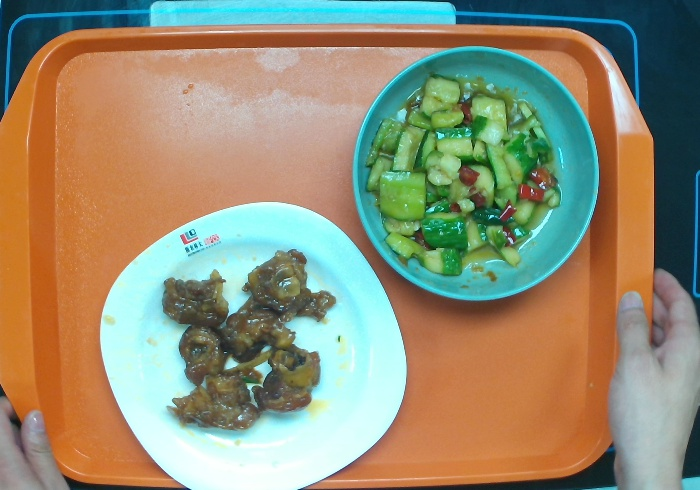ZNLD-Qing_Hua_Yuan_Wan: (350, 44, 602, 304)
ZNLD-Yuan_Jiao_Pan: (97, 200, 410, 490)
